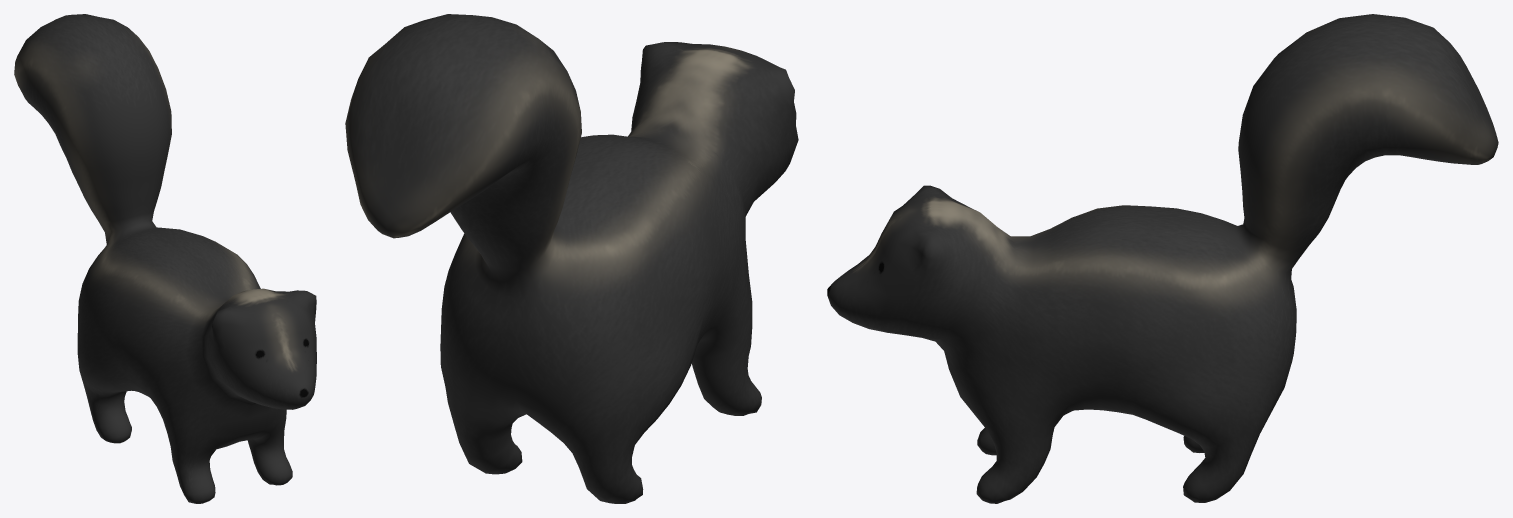
Rendered from skunks.fbx.
The picture shows the model from 3 angles, left to right: view 1: azimuth 30°, elevation 25°; view 2: azimuth 150°, elevation 25°; view 3: azimuth 270°, elevation 25°; orthographic projection. The views are drawn at different scales.
Parts seen in each view (by area): view 1: PM3D_Sphere3D_3; view 2: PM3D_Sphere3D_3; view 3: PM3D_Sphere3D_3.
Boxes of the visible parts, <box> form: PM3D_Sphere3D_3: <box>14,14,316,503</box>; PM3D_Sphere3D_3: <box>345,14,798,503</box>; PM3D_Sphere3D_3: <box>827,14,1498,503</box>.
Bounding box in the file's own units: 9.23 × 28.39 × 21.13.
1 material, 1 textured.
